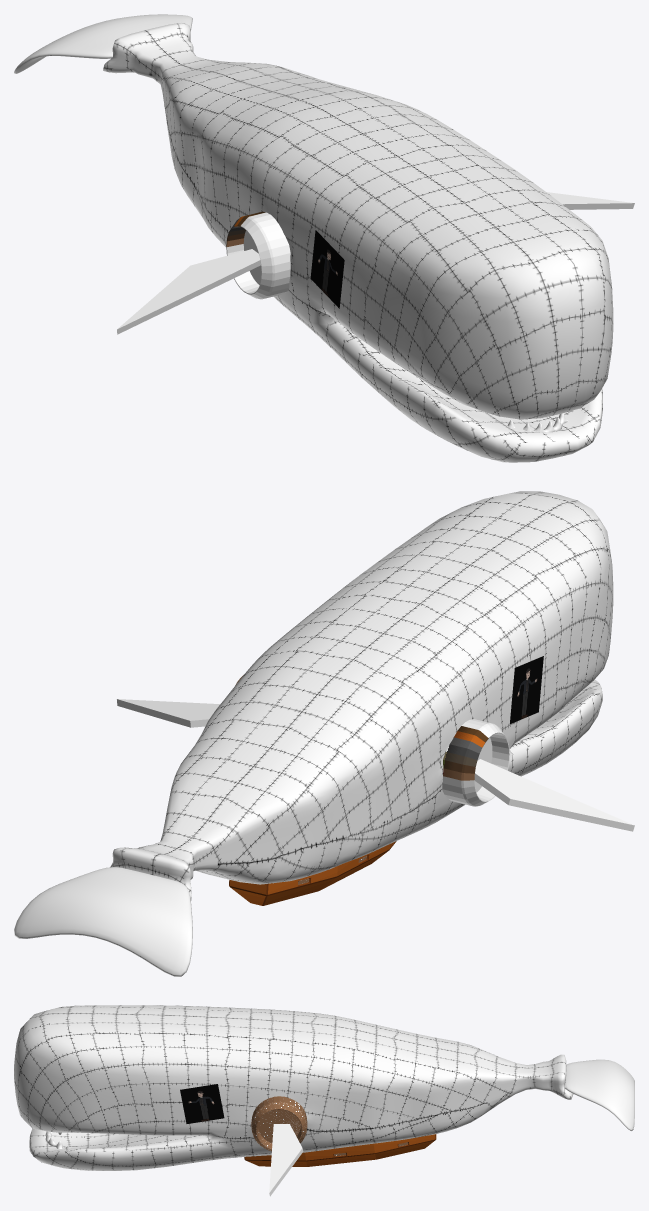
The model's file is SkyWhaleBackUp.fbx.
The picture shows the model from 3 angles, top to bottom: view 1: azimuth 30°, elevation 25°; view 2: azimuth 150°, elevation 25°; view 3: azimuth 270°, elevation 25°; orthographic projection. The views are drawn at different scales.
Parts seen in each view (by area): view 1: Body, Mechanical Parts, Tail, RightArm, Eyes.001, LeftArm; view 2: Body, Tail, Mechanical Parts, RightArm, LeftArm, Eyes.001; view 3: Body, Mechanical Parts, Tail, LeftArm, Eyes.
Part boxes in pixels (<box>): Body: <box>103,23,613,462</box>; Mechanical Parts: <box>226,211,290,299</box>; Tail: <box>14,14,192,73</box>; RightArm: <box>117,249,260,334</box>; Eyes.001: <box>310,230,344,308</box>; LeftArm: <box>546,192,634,209</box>; Body: <box>110,491,613,900</box>; Tail: <box>14,867,192,976</box>; Mechanical Parts: <box>229,675,509,905</box>; RightArm: <box>474,759,634,831</box>; LeftArm: <box>117,699,220,727</box>; Eyes.001: <box>510,656,543,723</box>; Body: <box>14,1005,573,1170</box>; Mechanical Parts: <box>244,1096,436,1166</box>; Tail: <box>565,1059,634,1130</box>; LeftArm: <box>269,1124,303,1196</box>; Eyes: <box>180,1084,224,1123</box>.
Size of the model in its own units: 11266 by 4655 by 17920.
